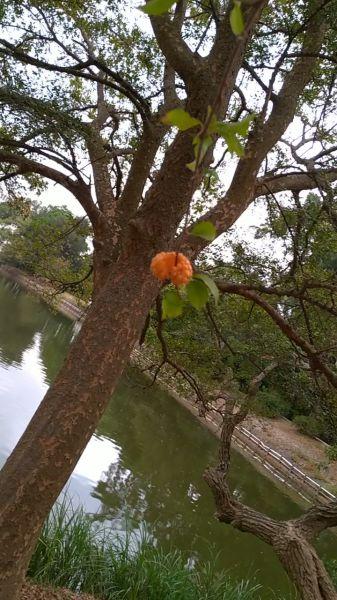eggs: (145, 246, 196, 288)
